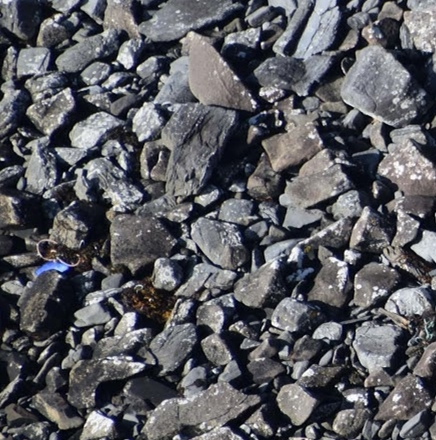white_in_green: (15, 241, 83, 298)
